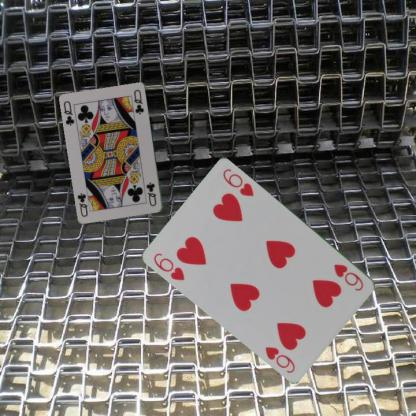6h: (151, 250, 186, 282), (331, 262, 365, 292)
Qc: (61, 98, 76, 127), (144, 180, 158, 208)
